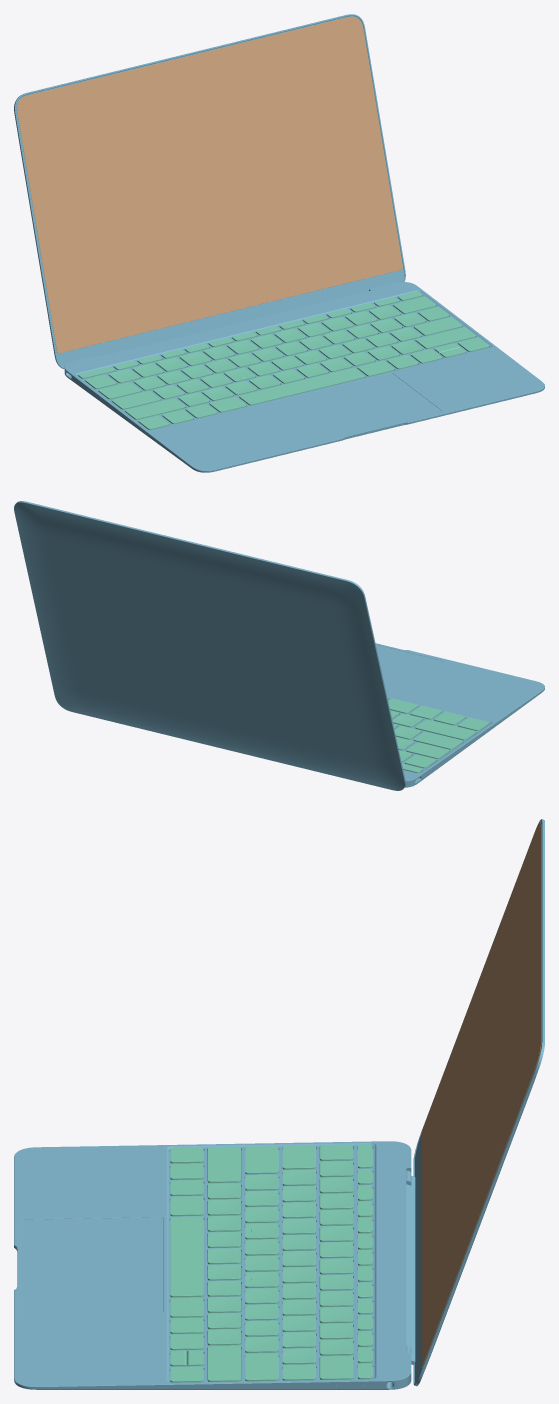
File: Computer_Gen_3_laptop.fbx
3 renders of one model, top to bottom at view 1: azimuth 30°, elevation 25°; view 2: azimuth 150°, elevation 25°; view 3: azimuth 270°, elevation 25°, orthographic. The views are drawn at different scales.
Parts seen in each view (by area): view 1: mesh_glass, mesh_laptop, mesh_keys; view 2: mesh_laptop, mesh_keys; view 3: mesh_laptop, mesh_keys, mesh_glass.
Part boxes in pixels (x1,y1,x2,y2): mesh_glass: (17,16,403,353); mesh_laptop: (14,14,544,472); mesh_keys: (78,291,489,429); mesh_laptop: (14,501,544,790); mesh_keys: (387,697,489,772); mesh_laptop: (14,819,544,1389); mesh_keys: (170,1144,372,1382); mesh_glass: (421,822,541,1367).
Size of the model in its own units: 42.08 by 28.22 by 39.37.
